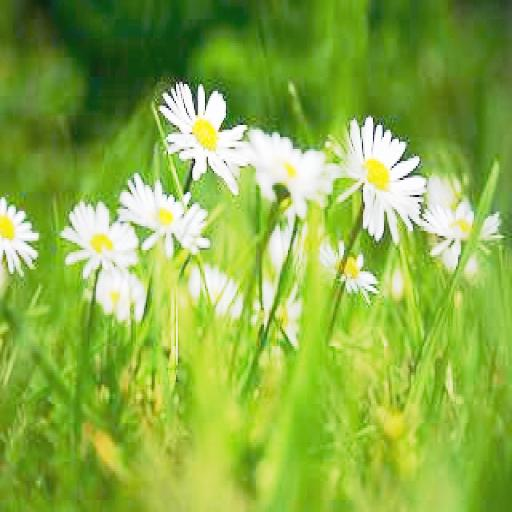daisy: (339, 118, 424, 233), (164, 92, 242, 180), (125, 185, 208, 248), (254, 137, 326, 204), (66, 207, 131, 267), (426, 200, 500, 248), (2, 199, 35, 279), (325, 250, 374, 291), (98, 274, 146, 315)
